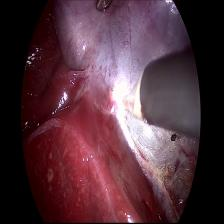Grasper: (94, 0, 118, 18)
Hook: (115, 69, 145, 125)
